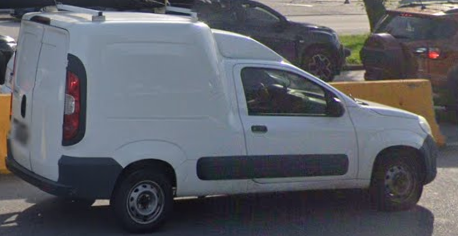car: (9, 9, 436, 221)
